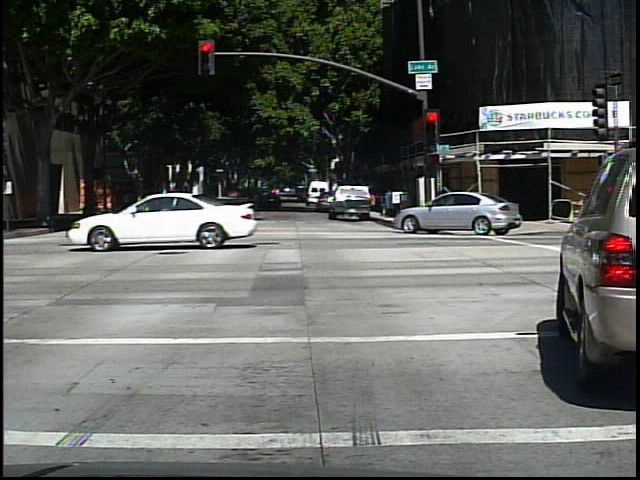person: (87, 186, 104, 220)
